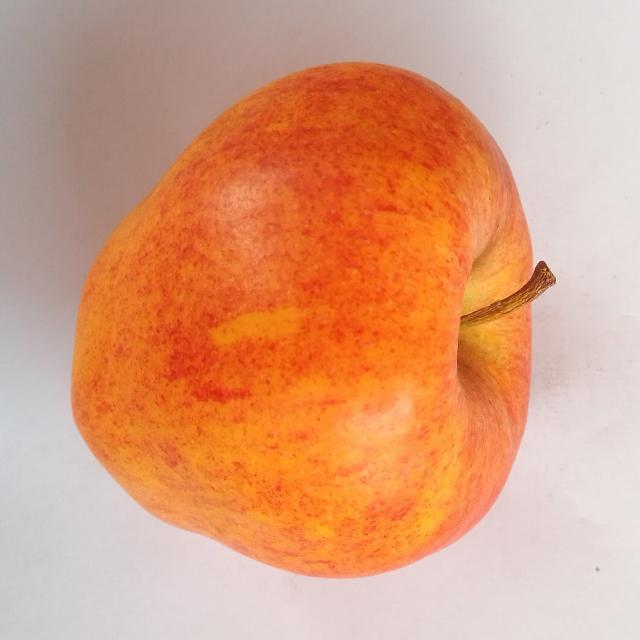Fresh Apple: (66, 53, 542, 585)
